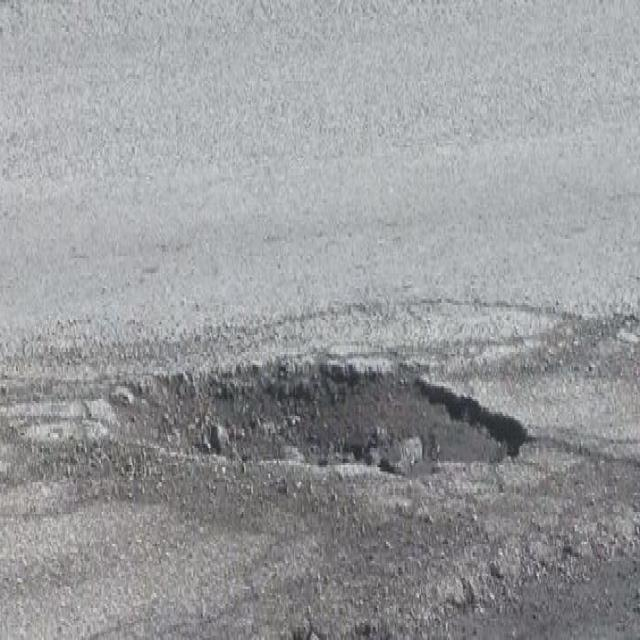pothole: (108, 340, 534, 478)
